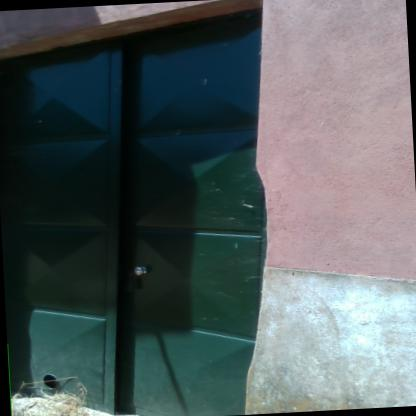closed: (0, 0, 293, 415)
